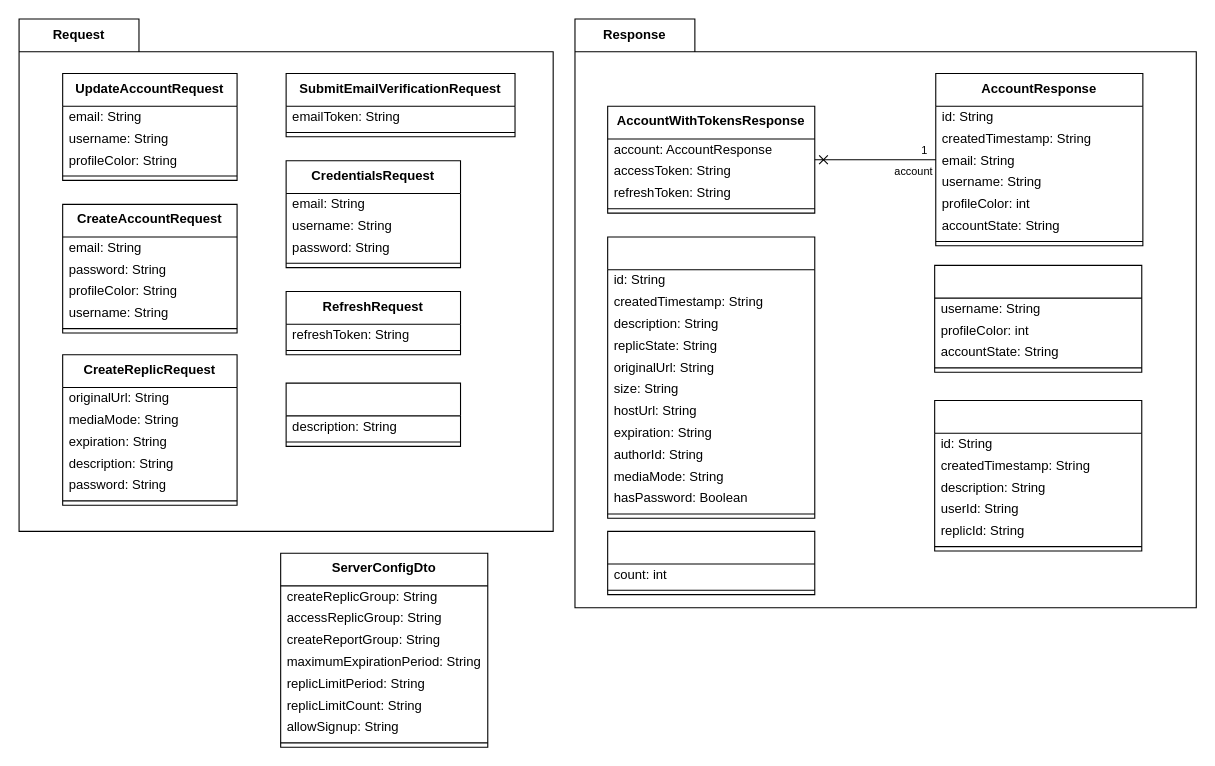
The diagram is 1215 pixels wide and 766 high, and some of its shapes have lost their labels. Each missing label, with the box of its shape:
CreateReportRequest: (285, 382, 461, 446)
PartialAccountResponse: (934, 264, 1142, 372)
QuotaProgressResponse: (607, 530, 815, 595)
ReplicResponse: (607, 236, 815, 518)
ReportResponse: (934, 399, 1142, 551)
